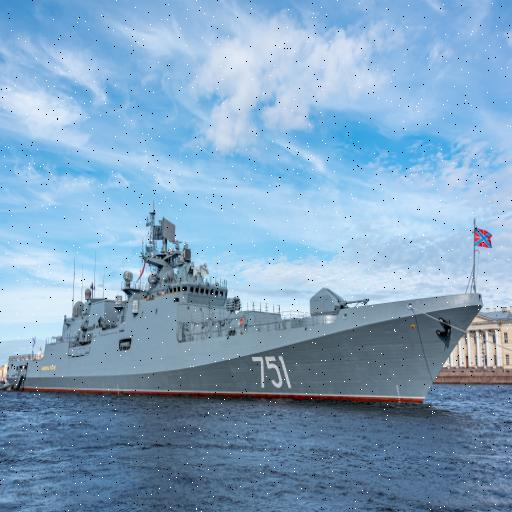Fragata: (5, 205, 489, 418)
